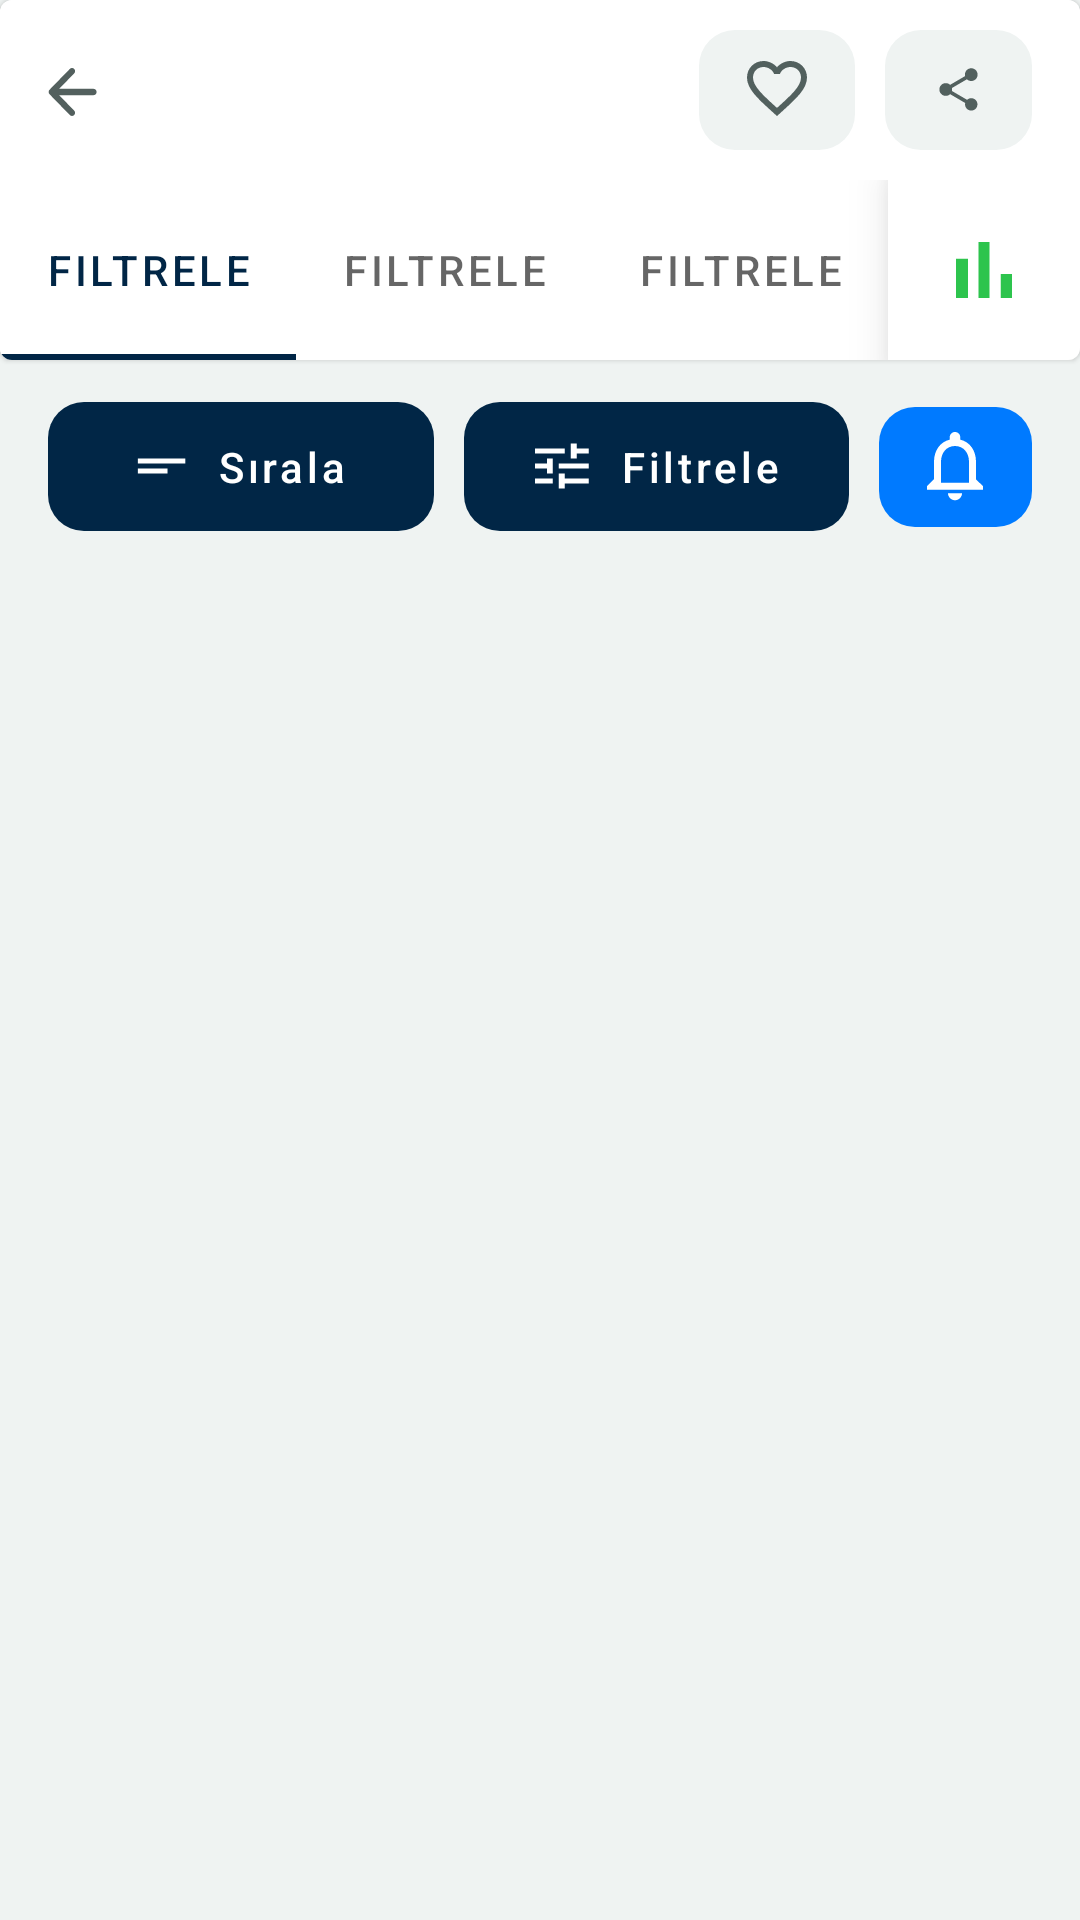

Icons on this 1080 × 1920 Android screen, each with the point to tap as point (x, y):
arrow back: point (72, 92)
chart: point (984, 270)
heart: point (777, 90)
notification: point (955, 467)
share: point (958, 90)
